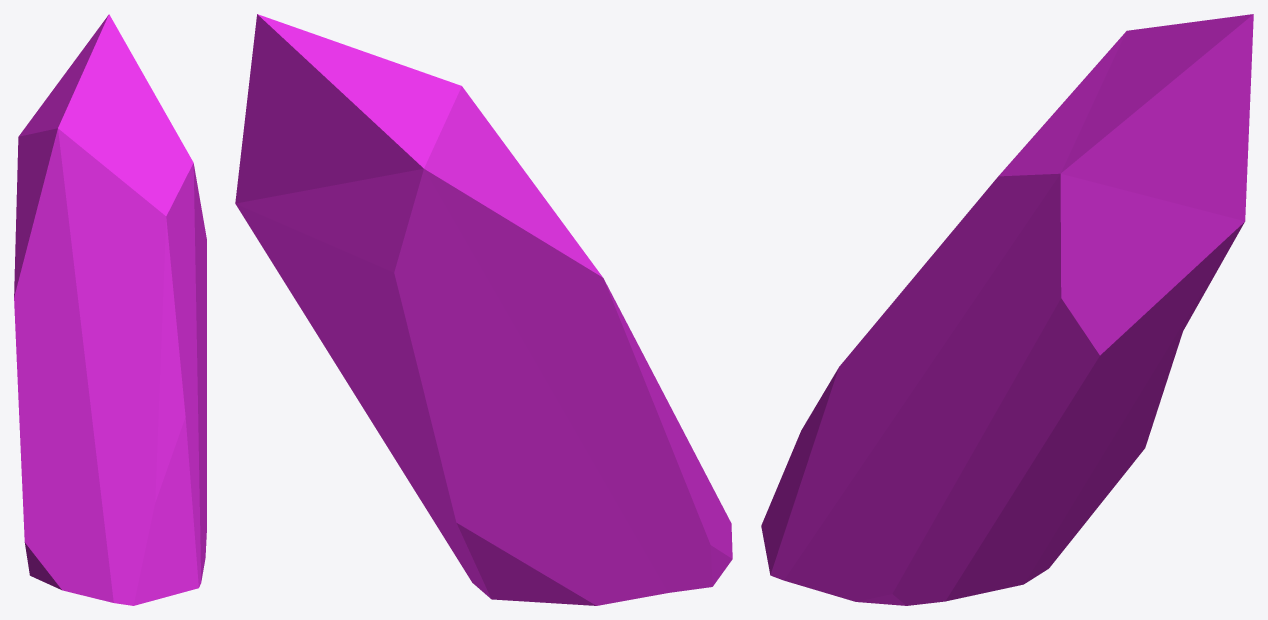
Rendered from Boss Crystal6.fbx.
3 views of the same model, side by side, from view 1: azimuth 30°, elevation 25°; view 2: azimuth 150°, elevation 25°; view 3: azimuth 270°, elevation 25° (orthographic). The views are drawn at different scales.
Parts seen in each view (by area): view 1: boss crystal.006; view 2: boss crystal.006; view 3: boss crystal.006.
Part boxes in pixels (x1,y1,x2,y2): boss crystal.006: (14,14,206,605); boss crystal.006: (235,14,732,605); boss crystal.006: (761,14,1253,605).
Bounding box in the file's own units: 0.7175 × 1.27 × 0.9178.
